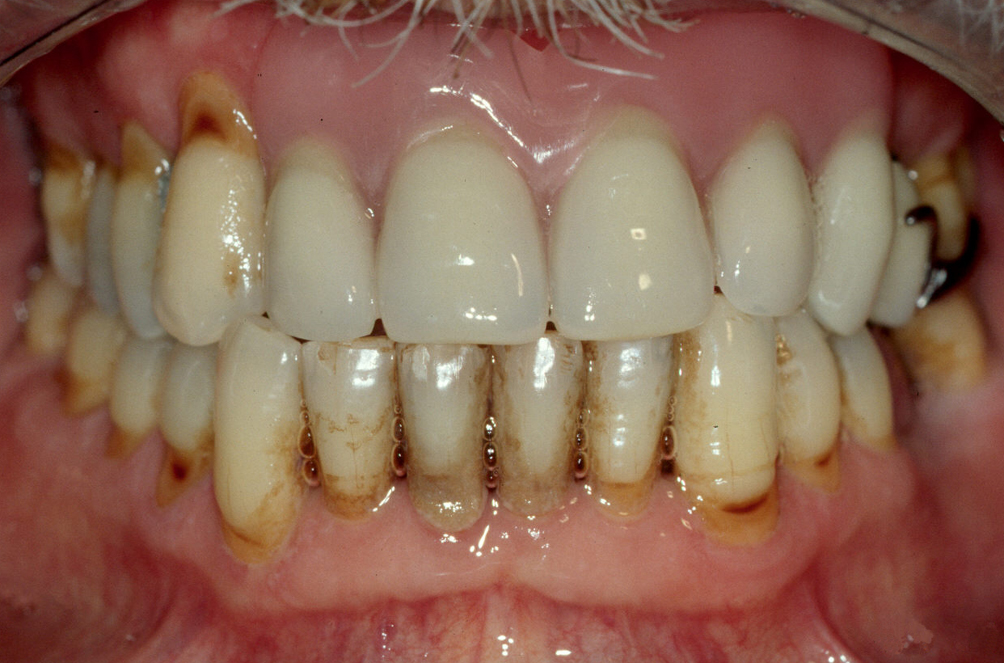LL1BC_decay: (774, 326, 842, 492)
LL2BC_decay: (839, 331, 897, 456)
LLCI_decay: (491, 341, 585, 531)
LLC_decay: (673, 317, 774, 534)
LLLI_decay: (587, 338, 679, 532)
LR1BC_decay: (159, 341, 217, 481)
LR1M_decay: (65, 309, 118, 420)
LR2BC_decay: (106, 344, 158, 456)
LRCI_decay: (395, 341, 490, 531)
LRC_decay: (214, 319, 305, 551)
LRLI_decay: (305, 337, 397, 526)
UL1BC_healthy: (797, 105, 897, 341)
ULCI_healthy: (549, 101, 711, 337)
ULLI_healthy: (710, 107, 810, 315)
UR1BC_healthy: (116, 121, 162, 344)
URCI_healthy: (376, 123, 549, 342)
URC_decay: (156, 68, 272, 343)
URLI_healthy: (264, 142, 376, 342)
